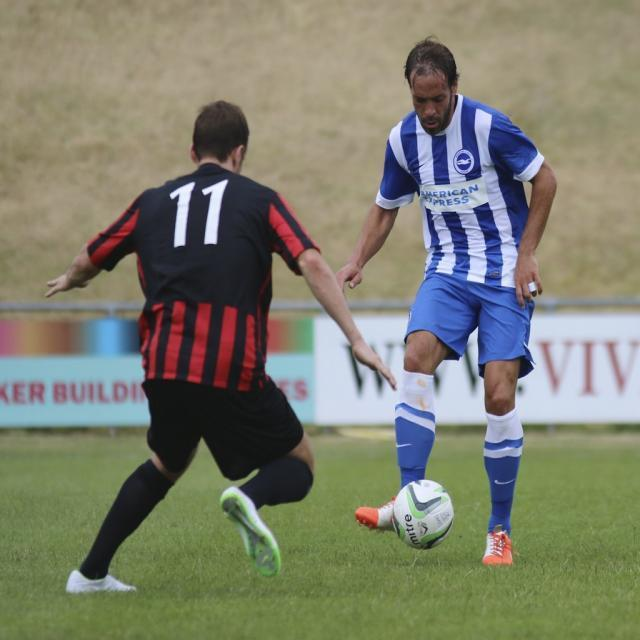football: (379, 470, 470, 562)
